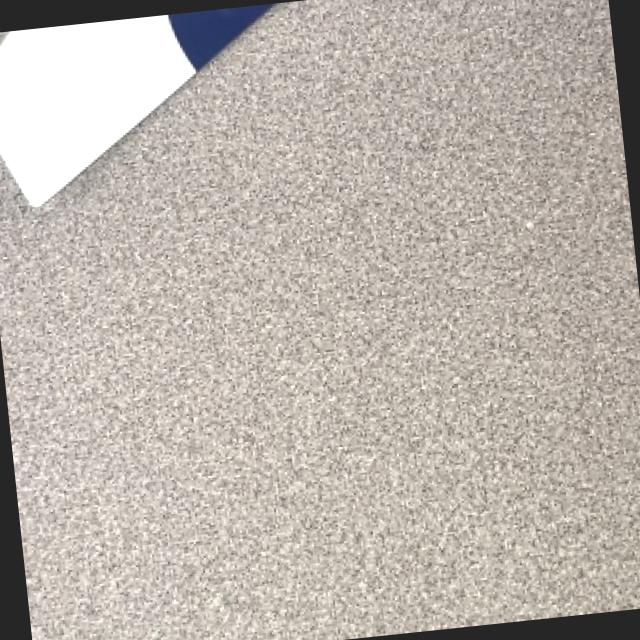healthy: (0, 5, 270, 202)
